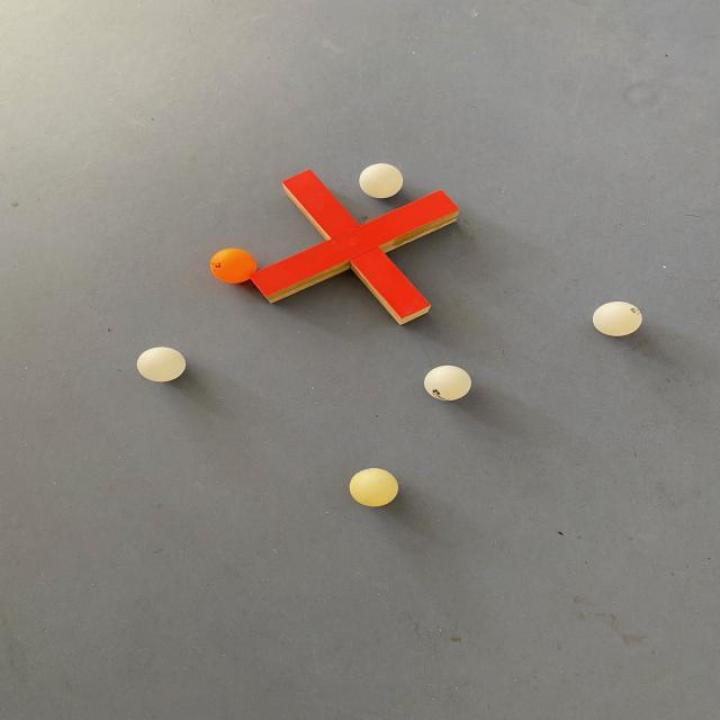orange: (210, 248, 258, 283)
white: (349, 467, 399, 507), (593, 300, 642, 338), (424, 365, 472, 402), (137, 347, 186, 382), (360, 163, 404, 198)
